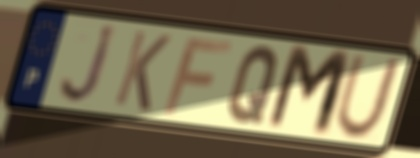F: (159, 36, 237, 118)
J: (57, 23, 119, 108)
K: (110, 27, 174, 115)
M: (263, 42, 356, 141)
Q: (224, 43, 283, 127)
U: (332, 53, 405, 142)
